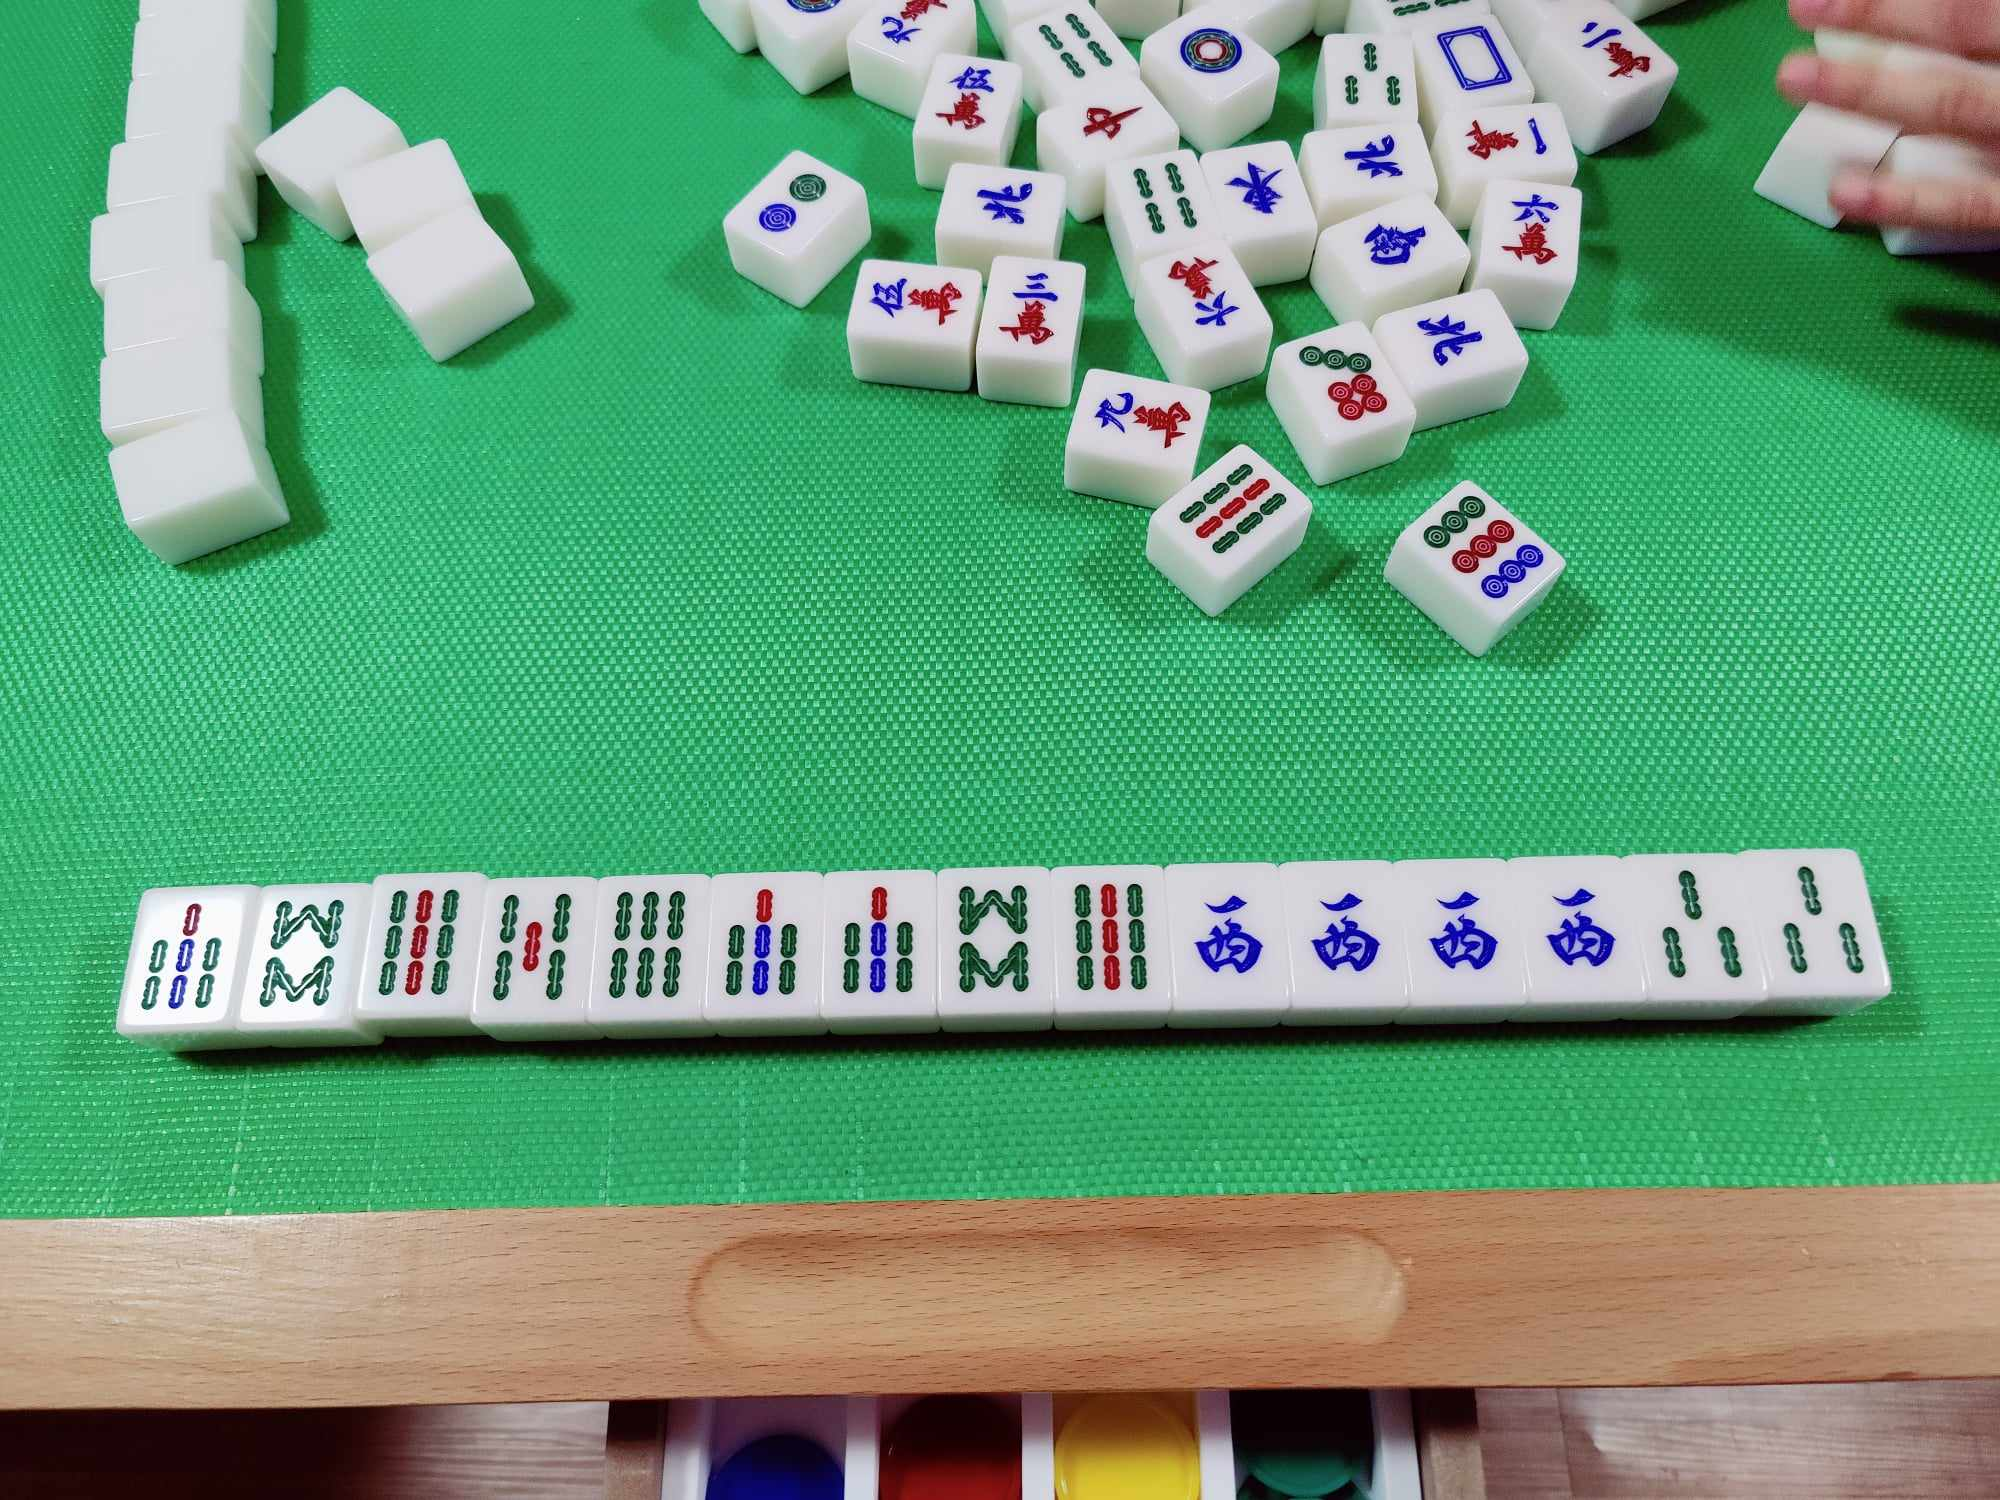bamboo-eight: (939, 873, 1047, 1008), (261, 893, 351, 1021)
bamboo-five: (487, 887, 580, 1016)
bamboo-nine: (373, 884, 461, 1005), (1058, 878, 1150, 993)
bamboo-seven: (129, 890, 231, 1019), (710, 876, 805, 1008), (828, 878, 926, 1004)
bamboo-six: (598, 882, 699, 1012)
bamboo-three: (1635, 859, 1750, 997), (1764, 856, 1872, 991)
honor-west_wind: (1176, 881, 1280, 985), (1291, 884, 1392, 989), (1526, 878, 1624, 983), (1413, 882, 1506, 978)
